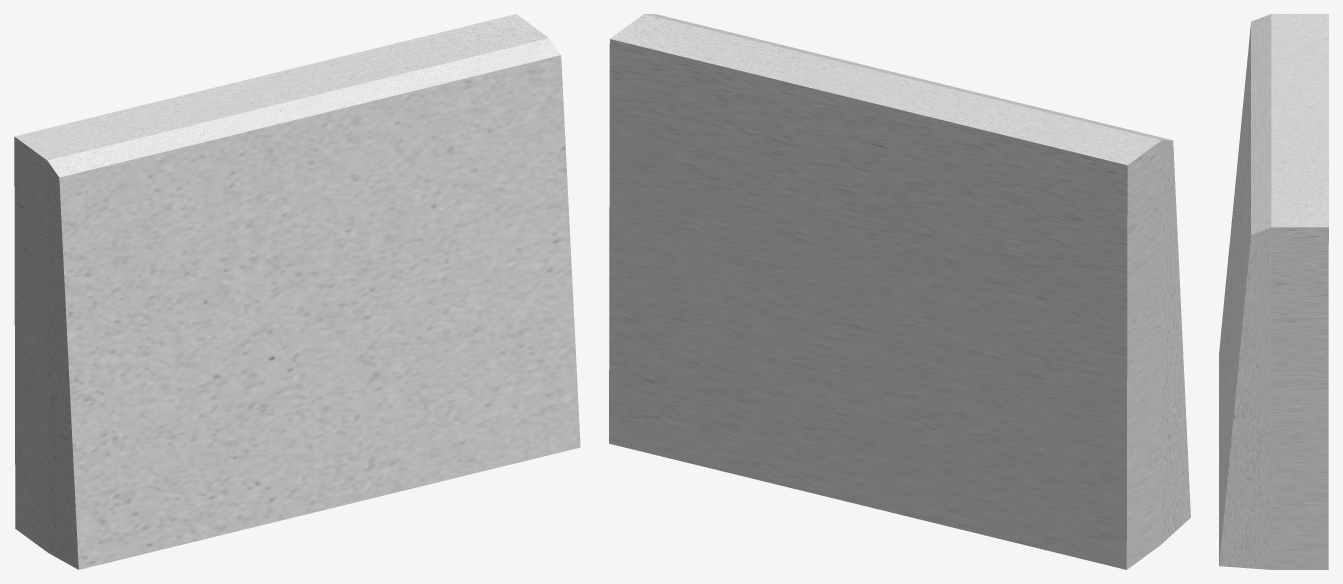
File: dossier2.fbx
The picture shows the model from 3 angles, left to right: view 1: azimuth 30°, elevation 25°; view 2: azimuth 150°, elevation 25°; view 3: azimuth 270°, elevation 25°; orthographic projection. The views are drawn at different scales.
Visible parts, largest first — view 1: Dossier2; view 2: Dossier2; view 3: Dossier2.
Boxes of the visible parts, x1,y1,x2,y2 form: Dossier2: (14,14,580,569); Dossier2: (609,14,1190,569); Dossier2: (1219,14,1328,569).
Bounding box in the file's own units: 346 × 258 × 74.98.
Materials: 1 (1 with a texture image).
